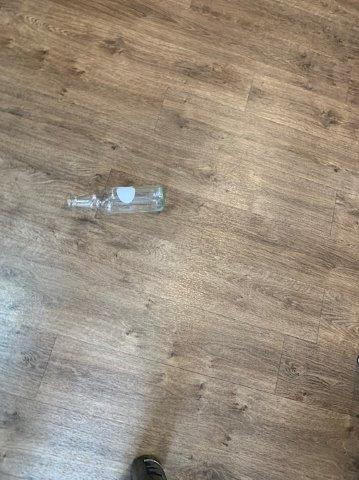botolkaca: (63, 186, 164, 215)
